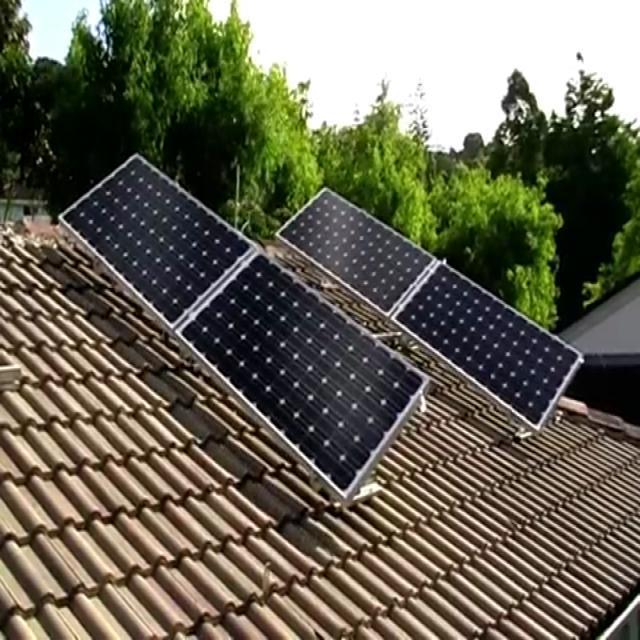Normal Solar Panel: (61, 156, 428, 500), (279, 188, 583, 428)
